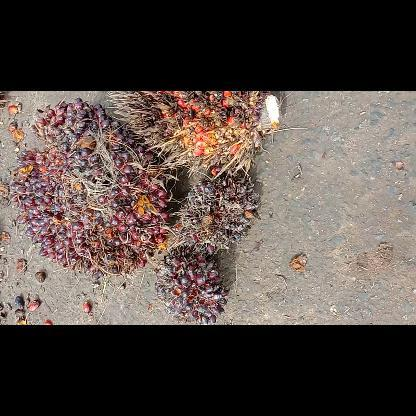TBS abnormal: (180, 164, 262, 252), (154, 240, 232, 324)
TBS masak: (7, 95, 171, 281)
Terlalu masak: (102, 92, 284, 176)
